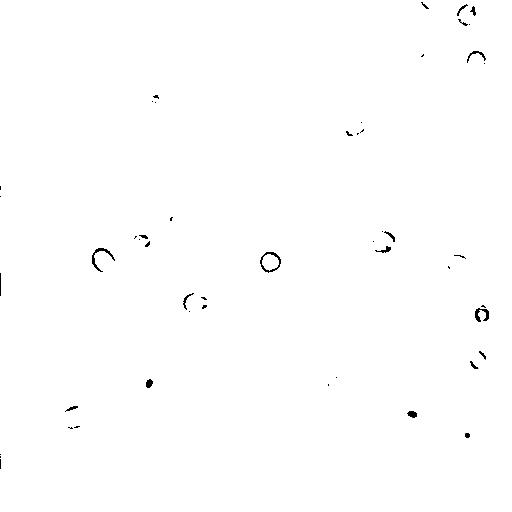micro-algae: (273, 116, 392, 238), (138, 197, 192, 249), (152, 463, 205, 512), (14, 293, 64, 344), (446, 417, 484, 449), (402, 39, 436, 72), (298, 288, 335, 318), (28, 397, 58, 433), (1, 448, 31, 476), (90, 245, 118, 275), (396, 399, 425, 427), (156, 356, 185, 383), (139, 365, 163, 395), (139, 5, 171, 27), (370, 230, 398, 255), (183, 290, 209, 316), (60, 406, 88, 430), (465, 50, 490, 76), (445, 254, 474, 276), (258, 249, 282, 275), (456, 3, 480, 26), (343, 116, 366, 139), (398, 312, 419, 336), (468, 349, 489, 372), (327, 374, 350, 393), (130, 233, 153, 251), (472, 303, 492, 323), (1, 270, 16, 295), (418, 1, 442, 10), (506, 124, 512, 145), (158, 0, 174, 4)
